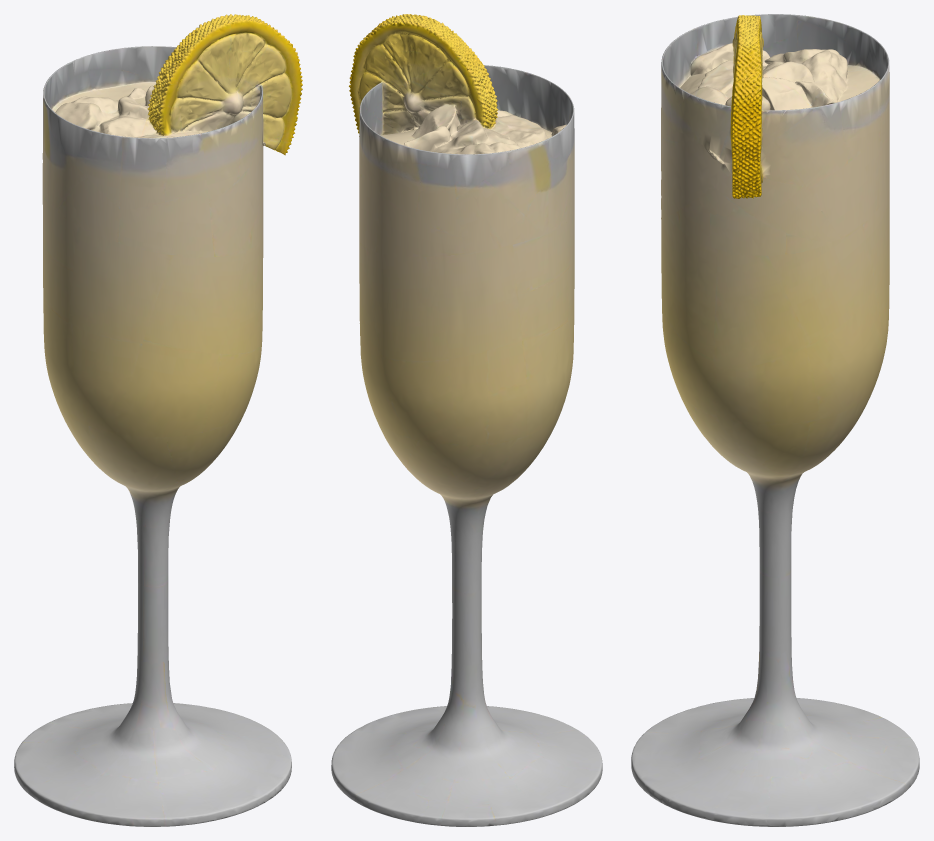
The model's file is french-75.glb.
3 renders of one model, left to right at view 1: azimuth 30°, elevation 25°; view 2: azimuth 150°, elevation 25°; view 3: azimuth 270°, elevation 25°, orthographic. The views are drawn at different scales.
Visible parts, largest first — view 1: mesh_node; view 2: mesh_node; view 3: mesh_node.
Part boxes in pixels (bbox=[...]): mesh_node: bbox=[14, 14, 302, 826]; mesh_node: bbox=[331, 14, 602, 826]; mesh_node: bbox=[631, 14, 919, 826].
Size of the model in its own units: 0.0772 by 0.22 by 0.0742.
Materials: 1 (1 with a texture image).
